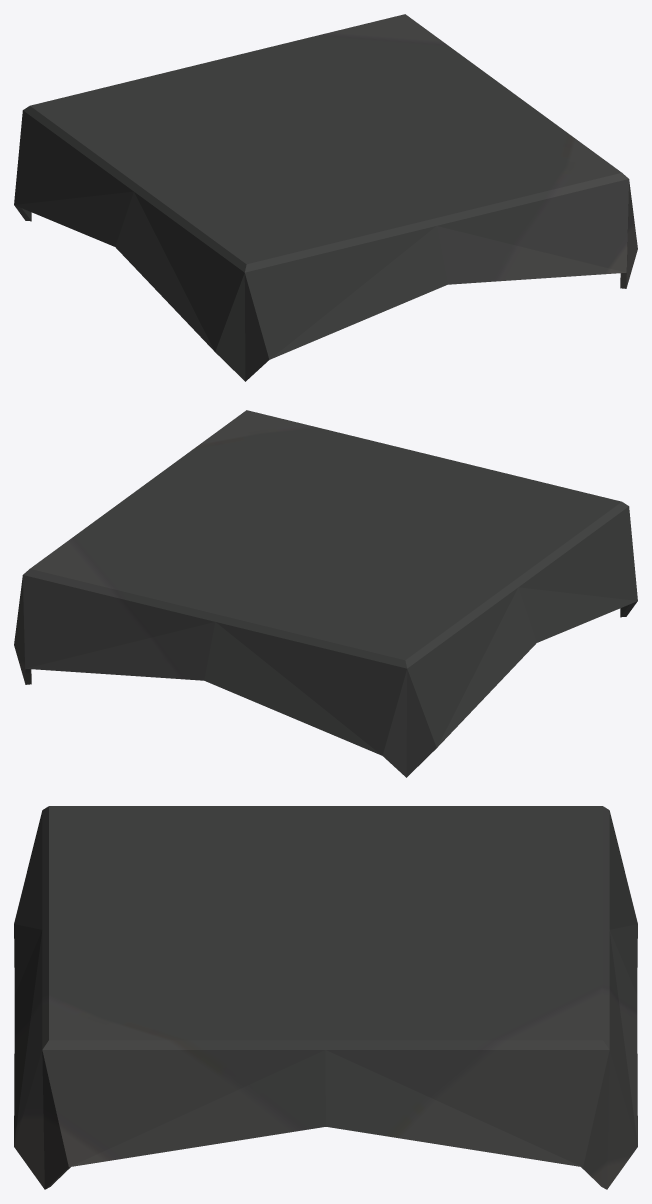
Rendered from SM_Prop_Cafe_Table_Cloth_02.obj.
The picture shows the model from 3 angles, top to bottom: view 1: azimuth 30°, elevation 25°; view 2: azimuth 150°, elevation 25°; view 3: azimuth 270°, elevation 25°; orthographic projection. The views are drawn at different scales.
Visible parts, largest first — view 1: SM_Prop_Cafe_Table_Cloth_02_0; view 2: SM_Prop_Cafe_Table_Cloth_02_0; view 3: SM_Prop_Cafe_Table_Cloth_02_0.
Boxes of the visible parts, left/top/right/bottom form: SM_Prop_Cafe_Table_Cloth_02_0: left=14, top=14, right=637, bottom=381; SM_Prop_Cafe_Table_Cloth_02_0: left=14, top=410, right=637, bottom=777; SM_Prop_Cafe_Table_Cloth_02_0: left=14, top=806, right=637, bottom=1189.
Bounding box in the file's own units: 0.8373 × 0.2189 × 0.8373.
1 material, 1 textured.
